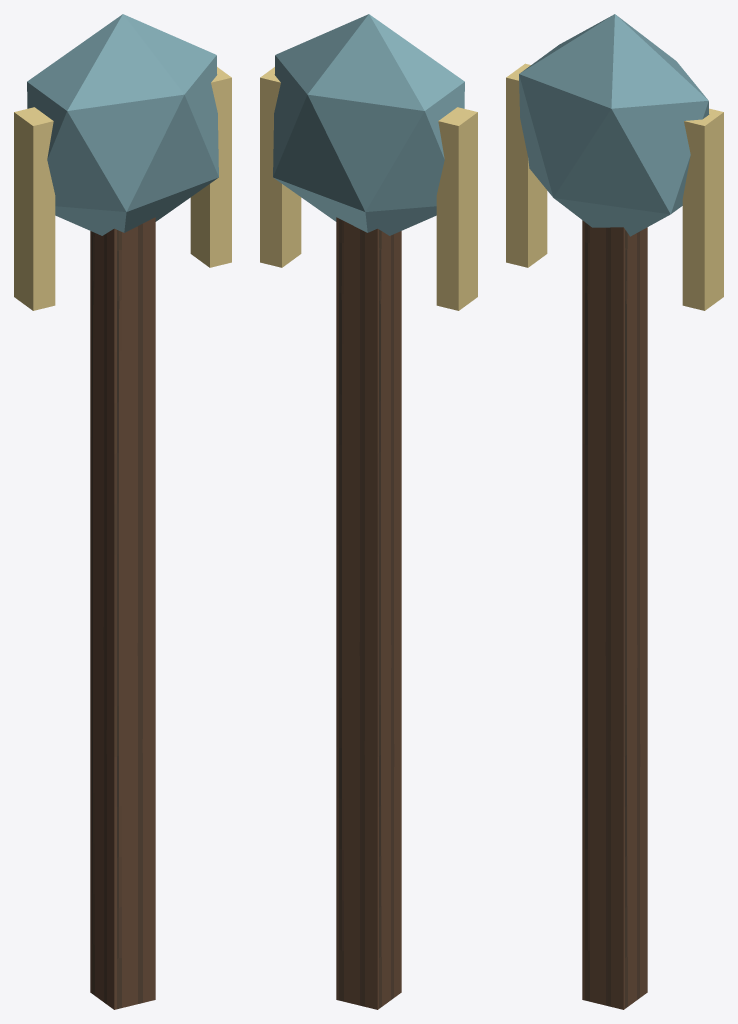
The model's file is staff_tier2.glb.
3 views of the same model, side by side, from view 1: azimuth 30°, elevation 25°; view 2: azimuth 150°, elevation 25°; view 3: azimuth 330°, elevation 25° (orthographic).
Visible parts, largest first — view 1: Shaft.001, Crown.001, Prong.002, Prong.003; view 2: Shaft.001, Crown.001, Prong.002, Prong.003; view 3: Shaft.001, Crown.001, Prong.003, Prong.002.
Boxes of the visible parts, x1,y1,x2,y2 form: Shaft.001: (90,217,155,1009); Crown.001: (27,14,218,235); Prong.002: (14,107,55,310); Prong.003: (190,67,231,267); Shaft.001: (336,217,401,1009); Crown.001: (273,14,464,235); Prong.002: (436,107,477,310); Prong.003: (260,67,301,267); Shaft.001: (582,220,647,1009); Crown.001: (519,14,709,236); Prong.003: (682,108,723,310); Prong.002: (506,63,547,267).
Size of the model in its own units: 0.36 by 1.7 by 0.2042.
Materials: 3 (1 with a texture image).
